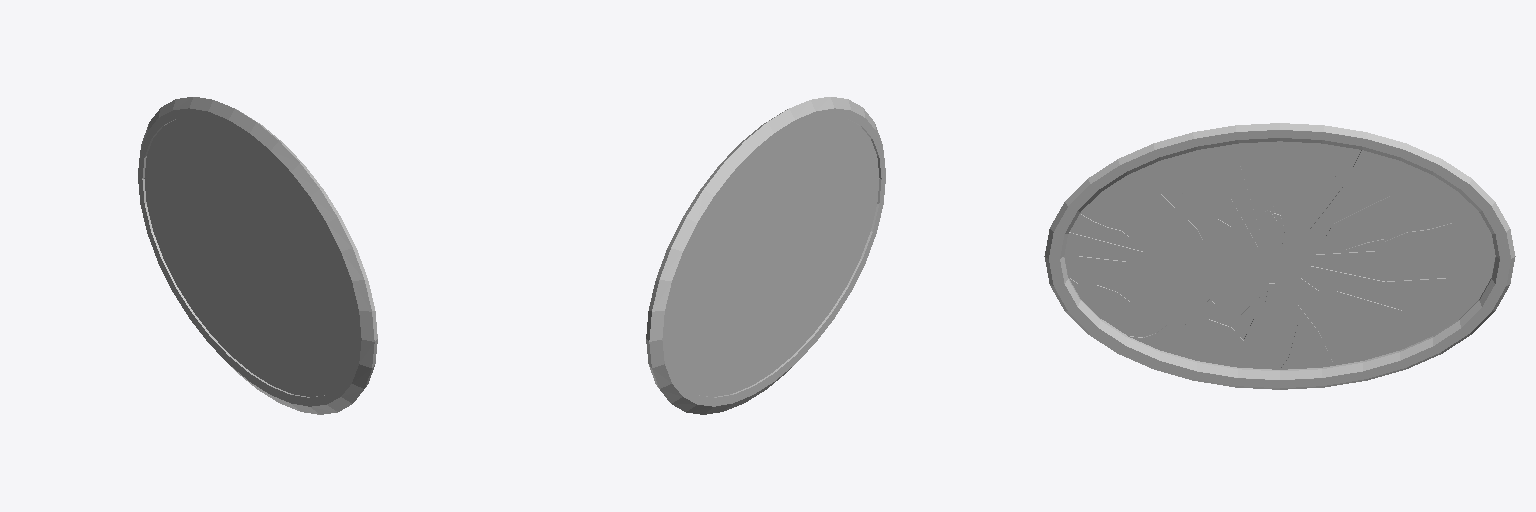
Rendered from defaultMaterial.obj.
The picture shows the model from 3 angles: view 1: azimuth 30°, elevation 25°; view 2: azimuth 150°, elevation 25°; view 3: azimuth 270°, elevation 25°; orthographic projection.
Visible parts, largest first — view 1: defaultMaterial.001; view 2: defaultMaterial.001; view 3: defaultMaterial, defaultMaterial.001.
Boxes of the visible parts, x1,y1,x2,y2 form: defaultMaterial.001: [138, 97, 377, 414]; defaultMaterial.001: [646, 97, 885, 414]; defaultMaterial: [1064, 141, 1495, 369]; defaultMaterial.001: [1044, 123, 1515, 389].
Size of the model in its own units: 0.0287 by 0.5809 by 0.929.